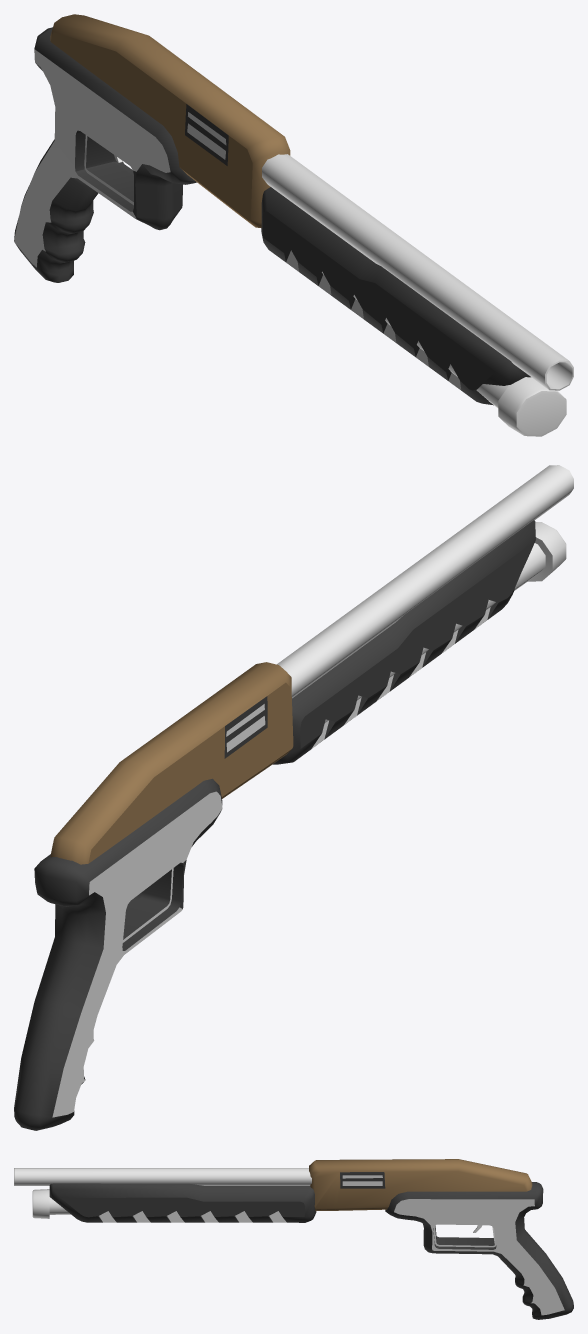
The model's file is Weapon_9.fbx.
3 renders of one model, top to bottom at view 1: azimuth 30°, elevation 25°; view 2: azimuth 150°, elevation 25°; view 3: azimuth 270°, elevation 25°, orthographic. The views are drawn at different scales.
Visible parts, largest first — view 1: Weapon_9; view 2: Weapon_9; view 3: Weapon_9.
Boxes of the visible parts, x1=… form: Weapon_9: x1=14, y1=14, x2=573, y2=436; Weapon_9: x1=14, y1=465, x2=573, y2=1130; Weapon_9: x1=14, y1=1159, x2=573, y2=1319.
Size of the model in its own units: 11.56 by 53.53 by 173.
